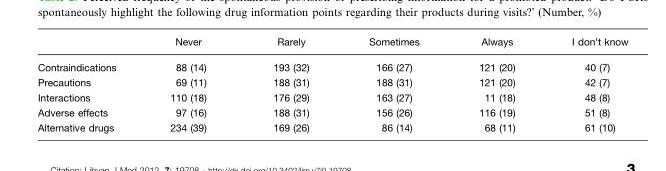table: (36, 36, 627, 132)
table column: (338, 36, 448, 132), (36, 36, 142, 132), (239, 36, 338, 132), (142, 36, 239, 132), (448, 36, 542, 132), (542, 36, 627, 132)
table column header: (36, 36, 627, 54)
table row: (36, 54, 627, 74), (36, 36, 627, 54), (36, 89, 627, 105), (36, 74, 627, 89), (36, 105, 627, 120), (36, 120, 627, 132)
